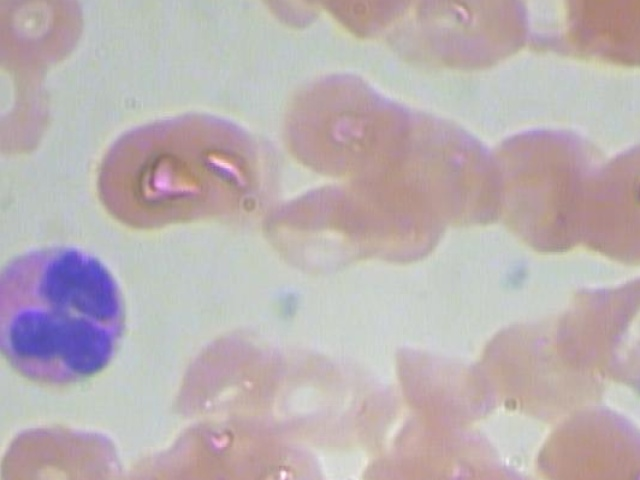Platelets: (637, 366, 640, 403)
RBC: (477, 123, 608, 260), (273, 58, 397, 180), (89, 118, 215, 232), (263, 175, 388, 276), (386, 335, 511, 435), (168, 323, 293, 423), (406, 0, 531, 87), (0, 398, 128, 480), (535, 397, 640, 480), (270, 345, 363, 438), (581, 263, 640, 408), (583, 122, 640, 267), (0, 0, 92, 72), (220, 435, 346, 480), (432, 452, 576, 480)
WBC: (0, 240, 145, 391)
